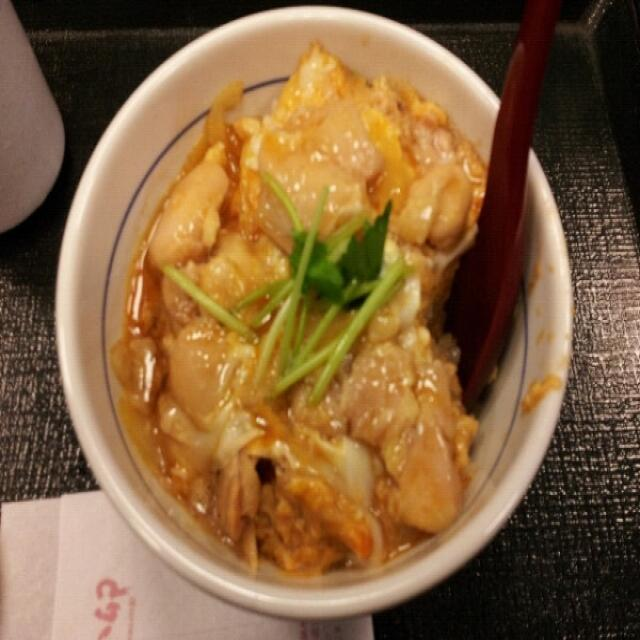米饭主食: (49, 1, 579, 616)
